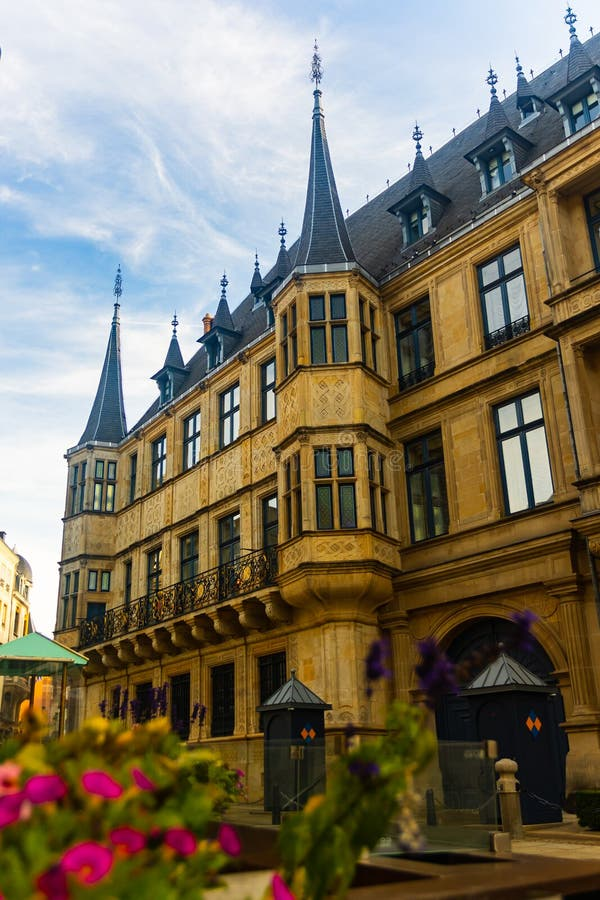Videoprojecteur: (99, 508, 281, 699)
